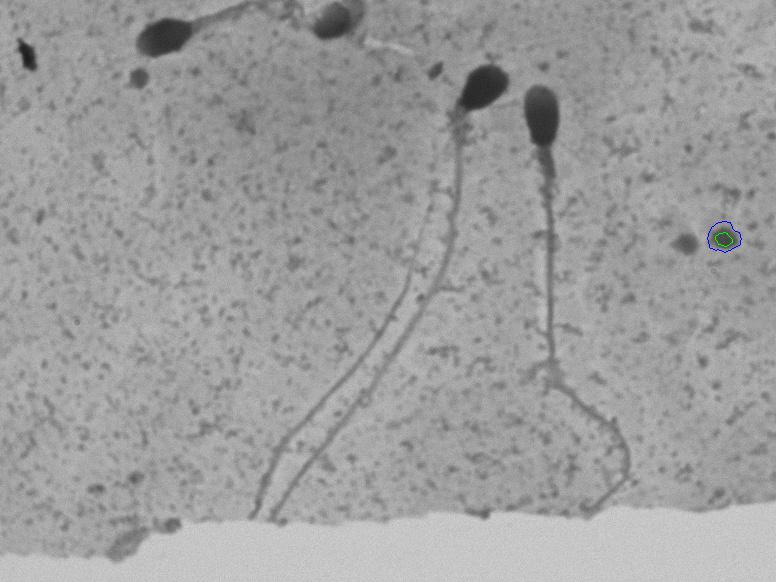Abnormal: (266, 54, 518, 519), (516, 79, 645, 511)
